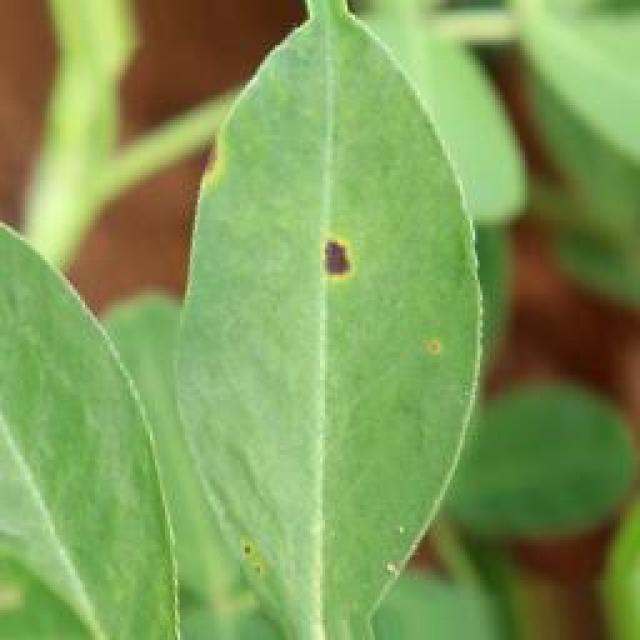Sigatoka: (300, 213, 393, 328), (220, 516, 300, 610), (401, 318, 462, 395), (380, 510, 420, 601), (190, 131, 238, 206)
